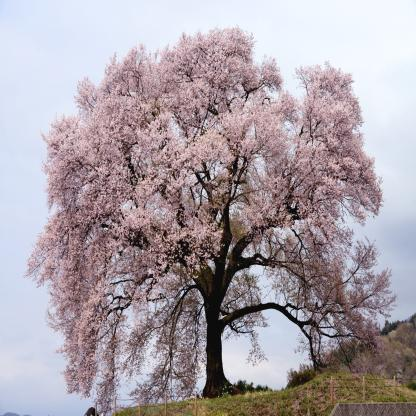EdohiganSakura: (22, 25, 396, 416)
